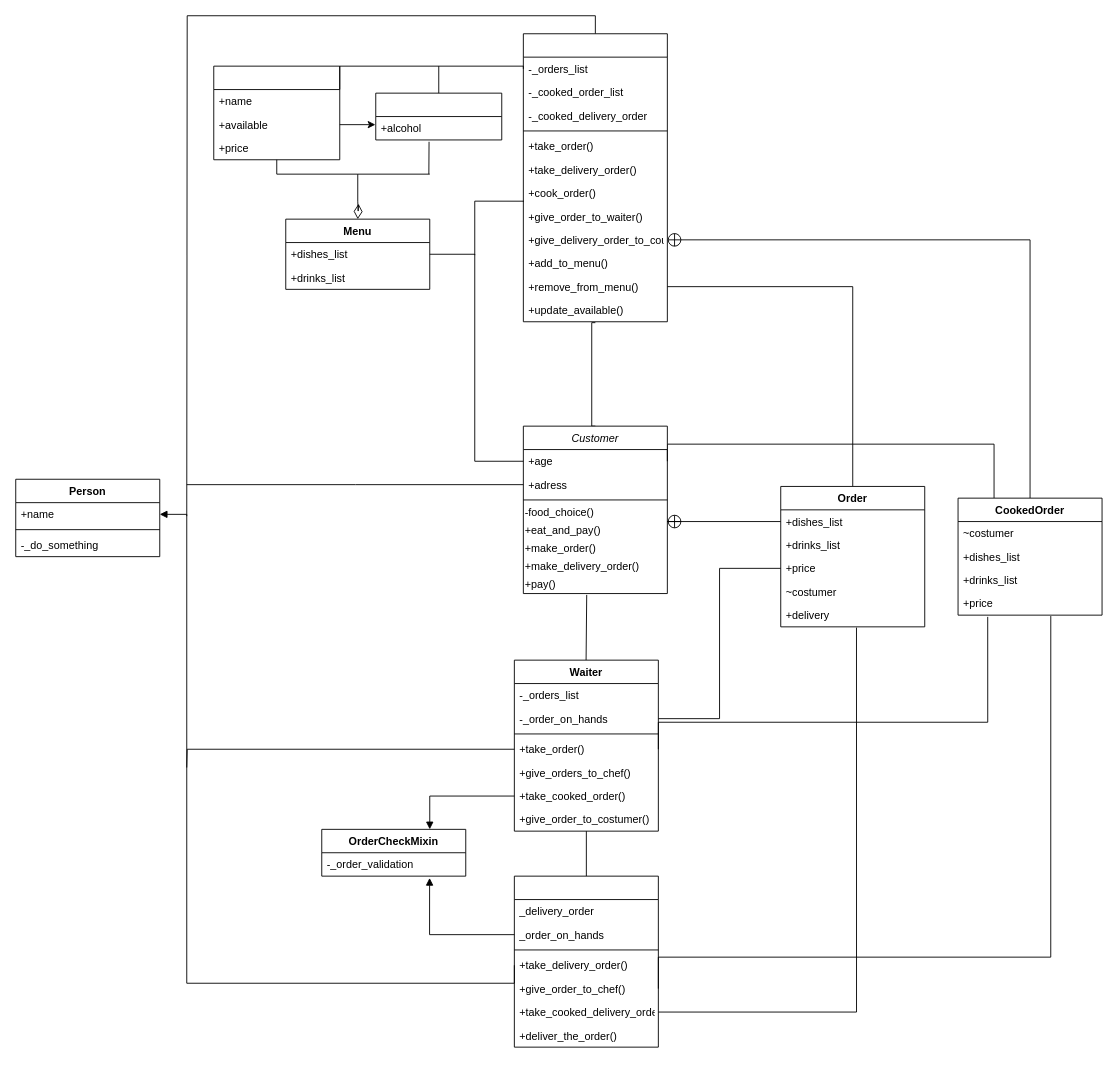
The diagram is 1118 pixels wide and 1066 high, and some of its shapes have lost their labels. Here are the shapes that lost their labels. From the top down, the box of each, then its label:
(213, 65, 340, 160): Dishes
(375, 92, 502, 140): Drinks
(522, 33, 667, 322): Chef
(513, 875, 658, 1047): Courier
